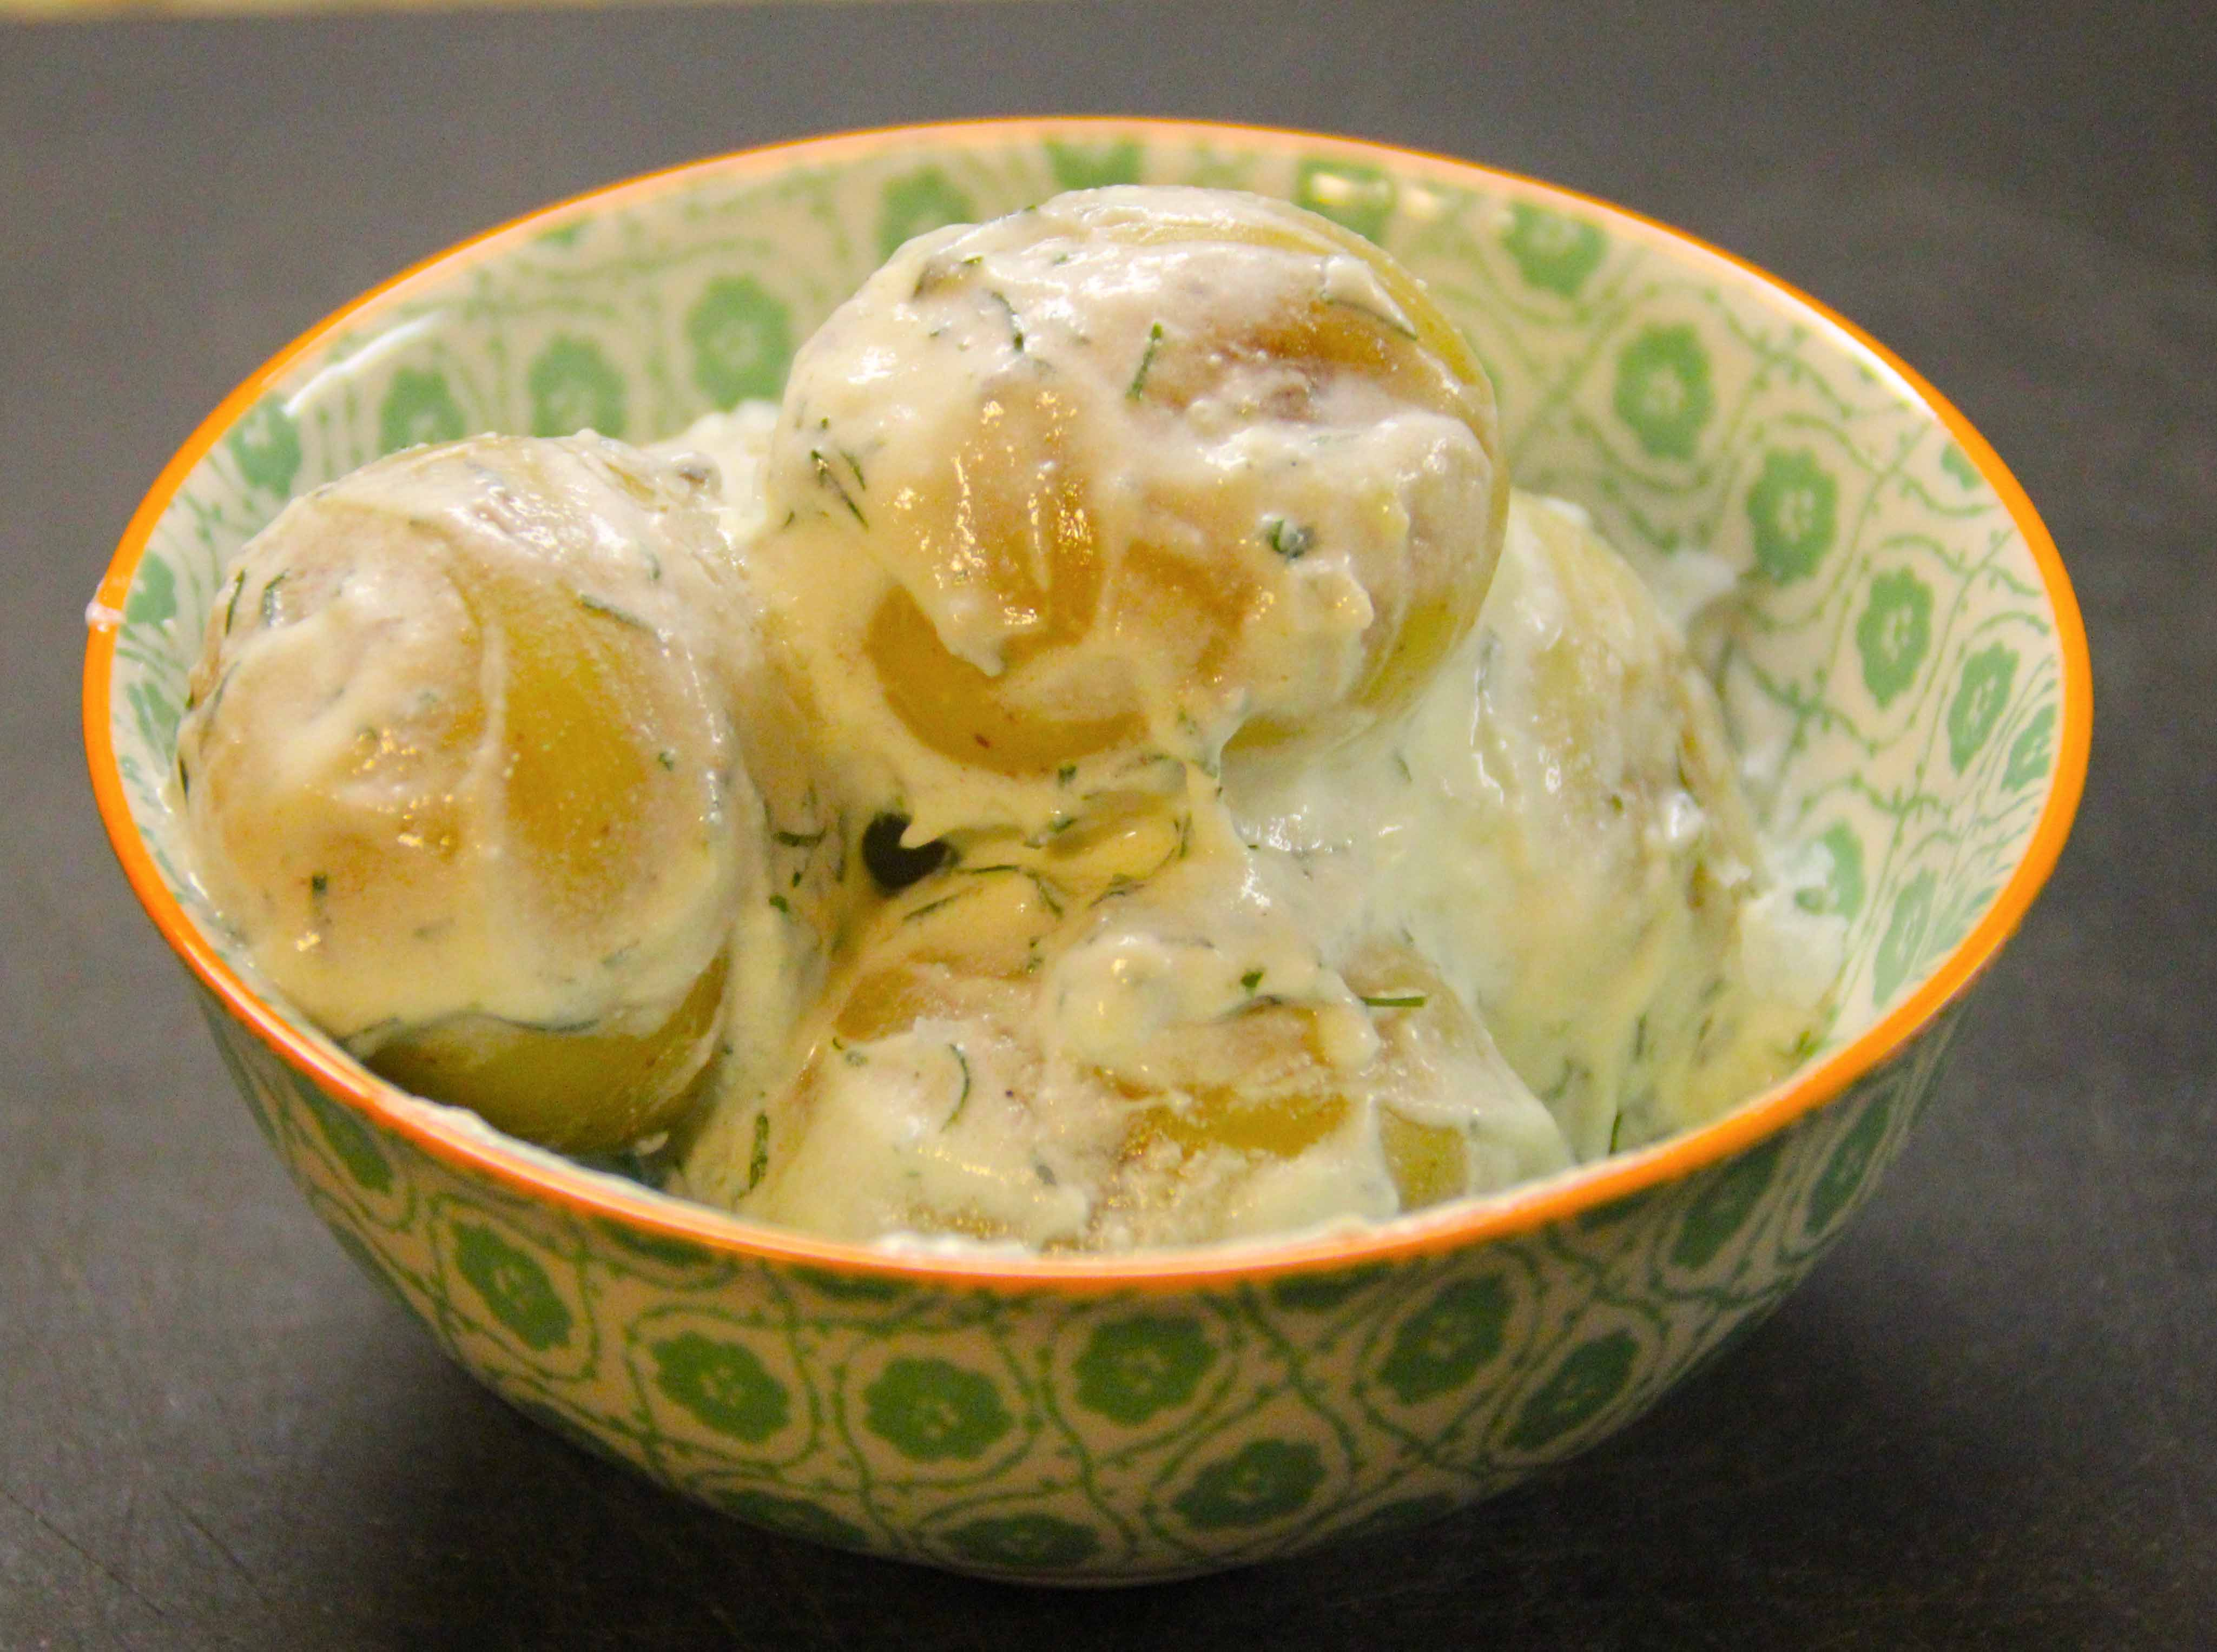boiled potatoes: (227, 182, 1762, 1222)
